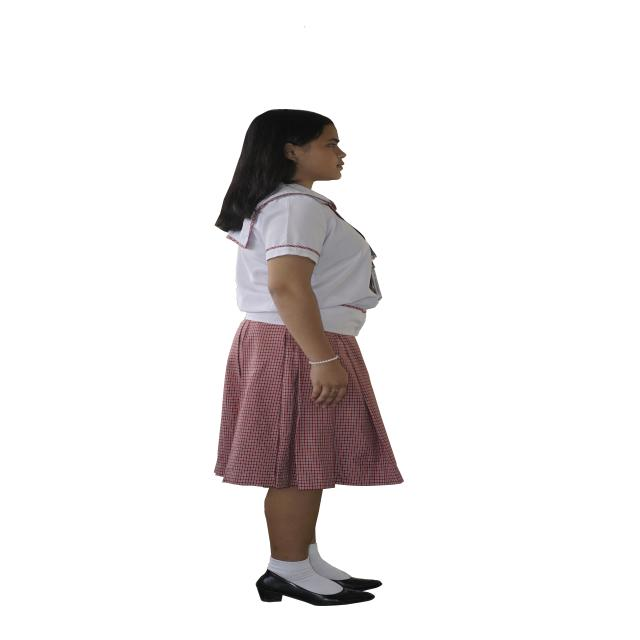pologirl: (227, 185, 381, 336)
shoes: (256, 569, 382, 606)
skirt: (218, 324, 403, 490)
